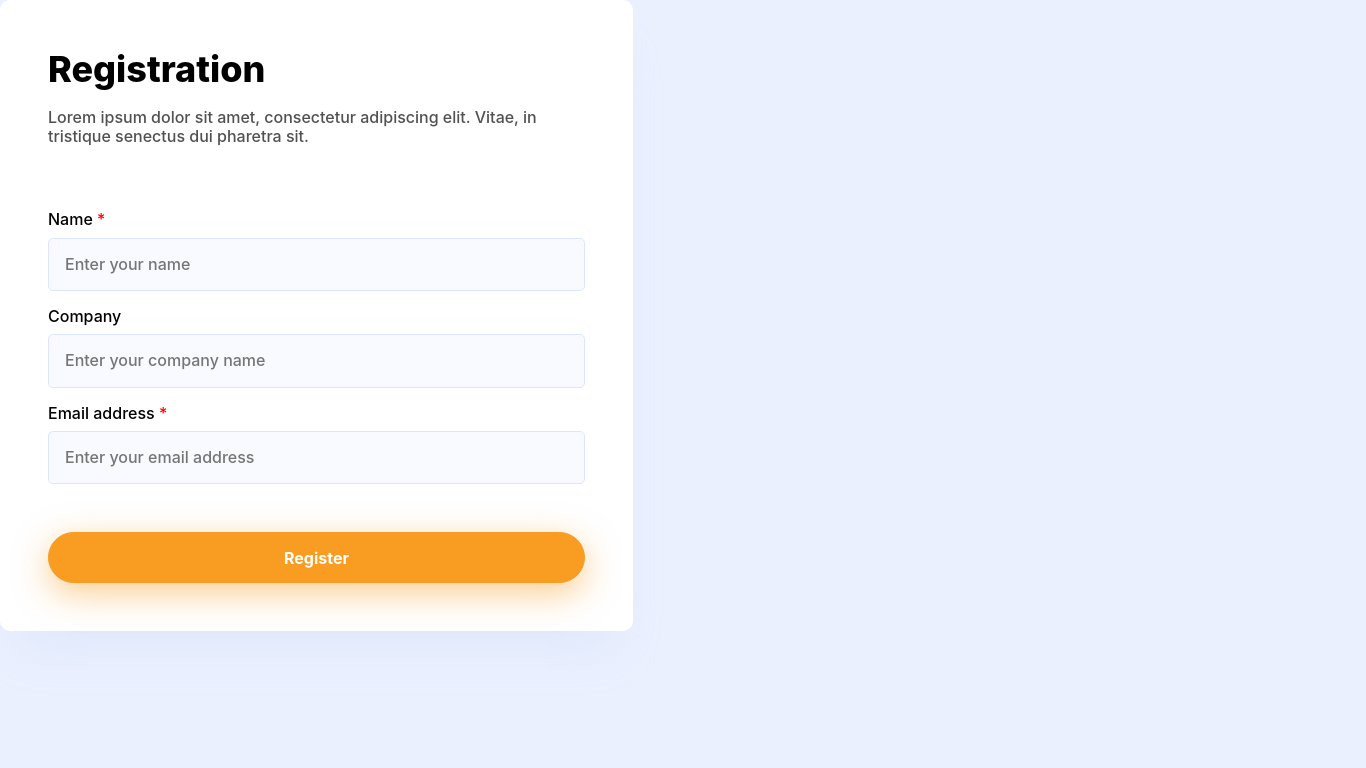
it: RegistrationForm › submits the form and shows alert
Type "John Doe" into the field labelled "Name *".
click(316, 264); type("John Doe")  # box x1=48 y1=238 x2=585 y2=291
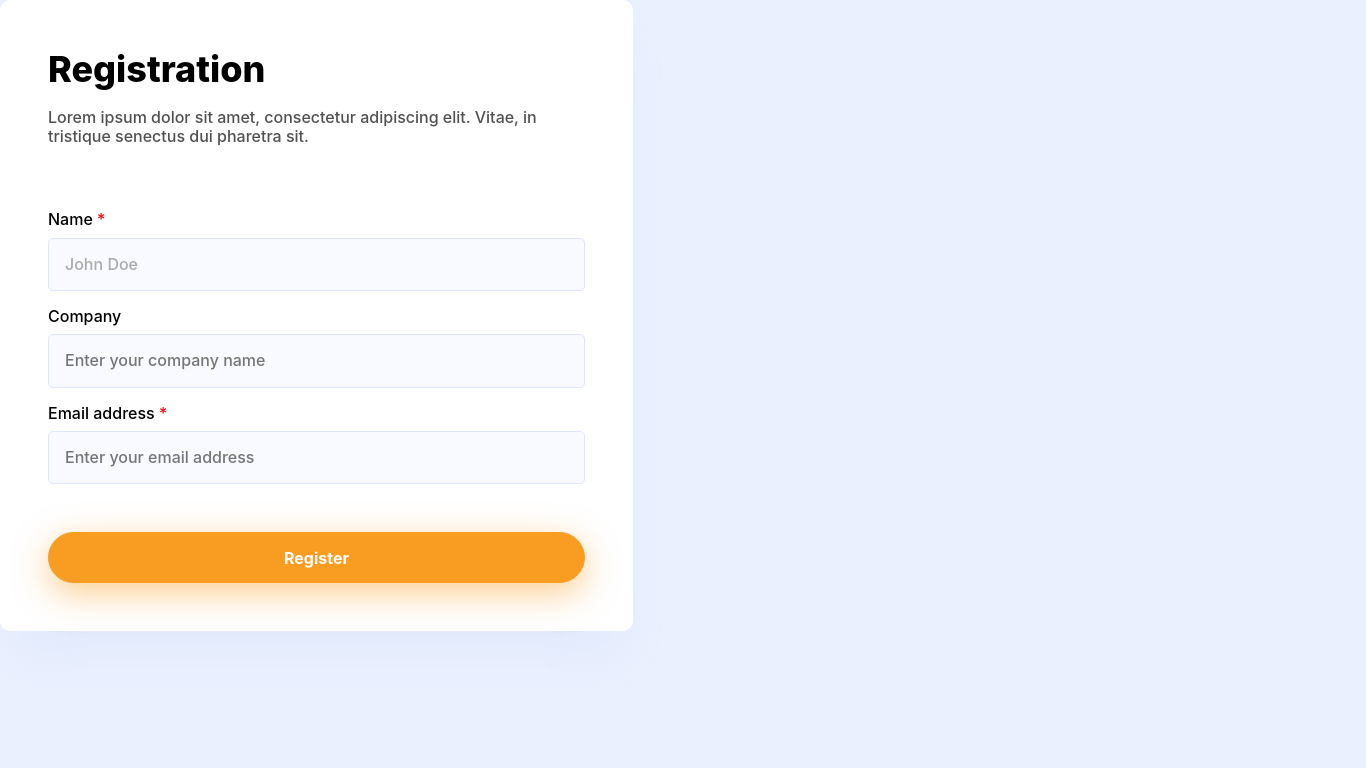
Type "ACME Corp" into the field labelled "Company".
click(316, 361); type("ACME Corp")  # box x1=48 y1=334 x2=585 y2=388
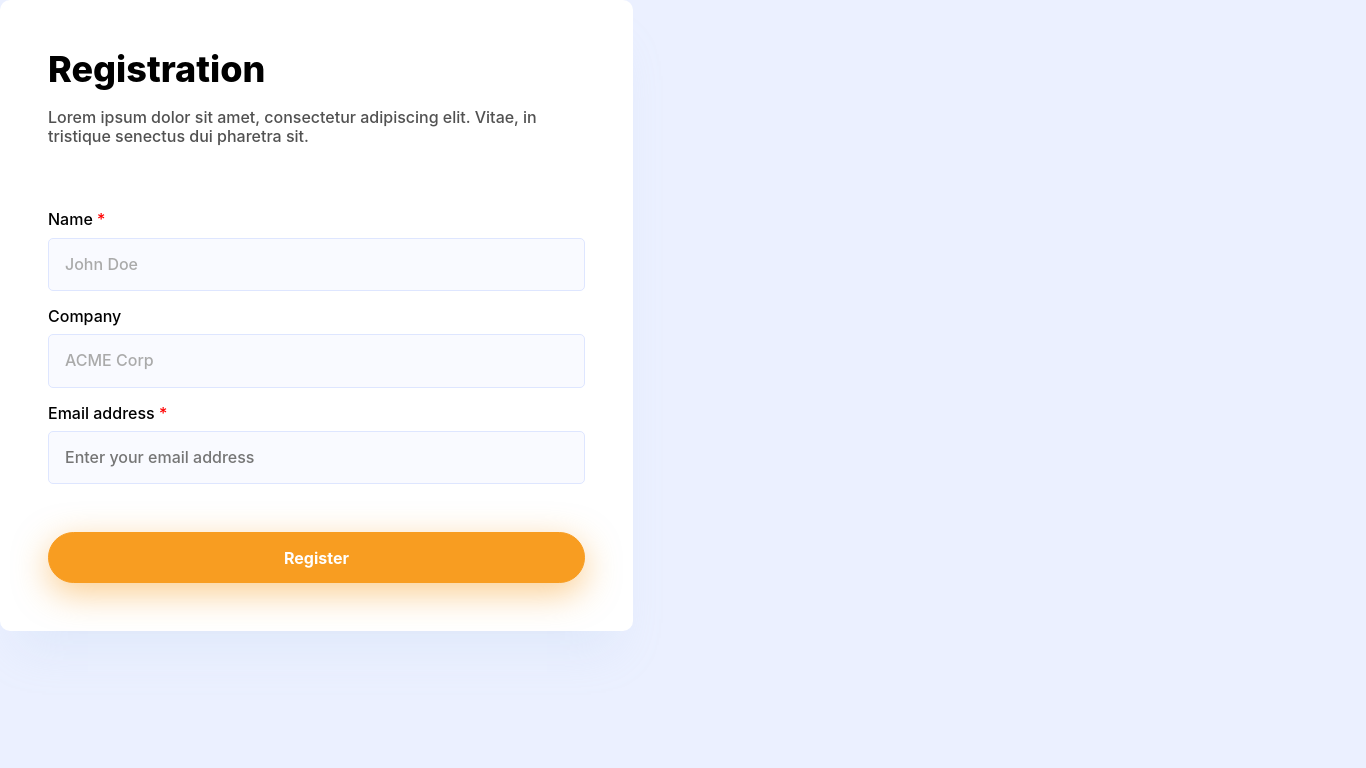
Type "john@example.com" into the field labelled "Email address *".
click(316, 458); type("john@example.com")  # box x1=48 y1=431 x2=585 y2=484
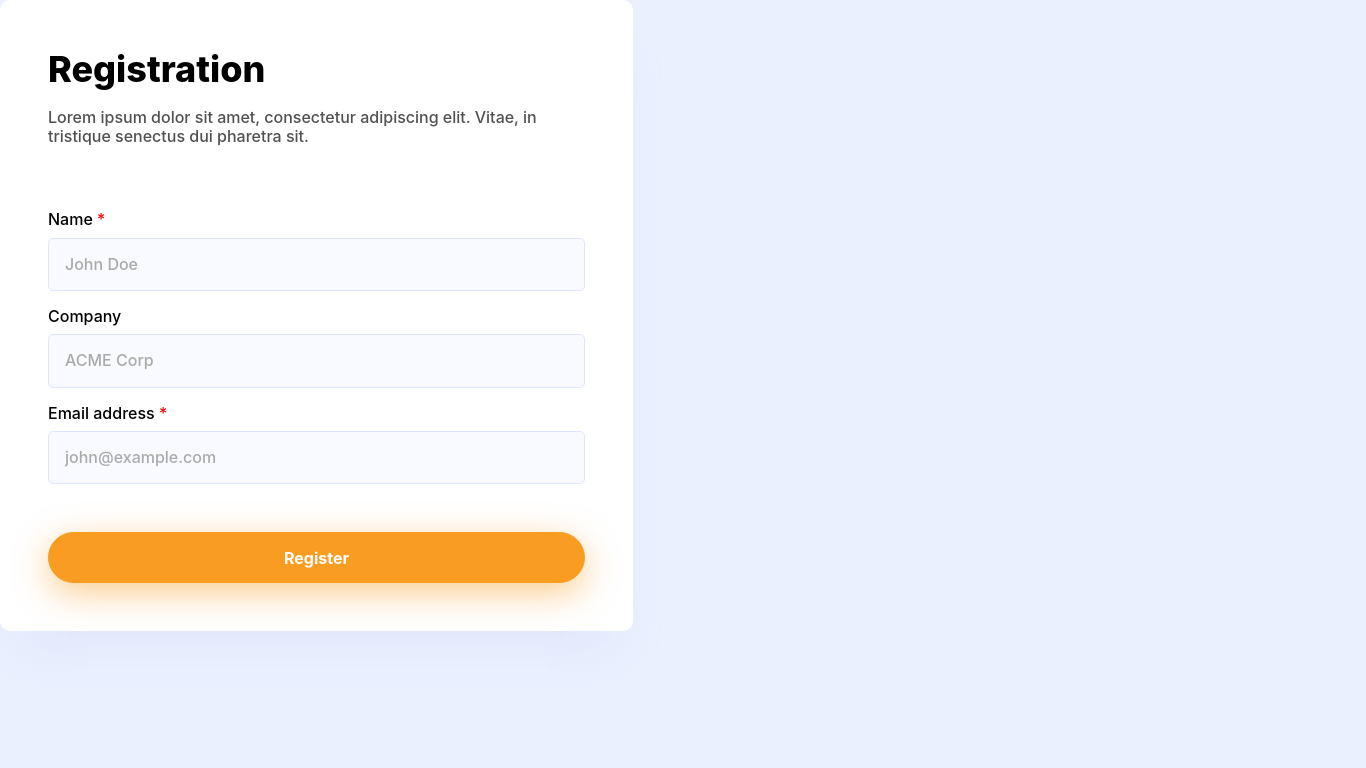
Click the button "Register".
click(316, 558)  # box x1=48 y1=532 x2=585 y2=583
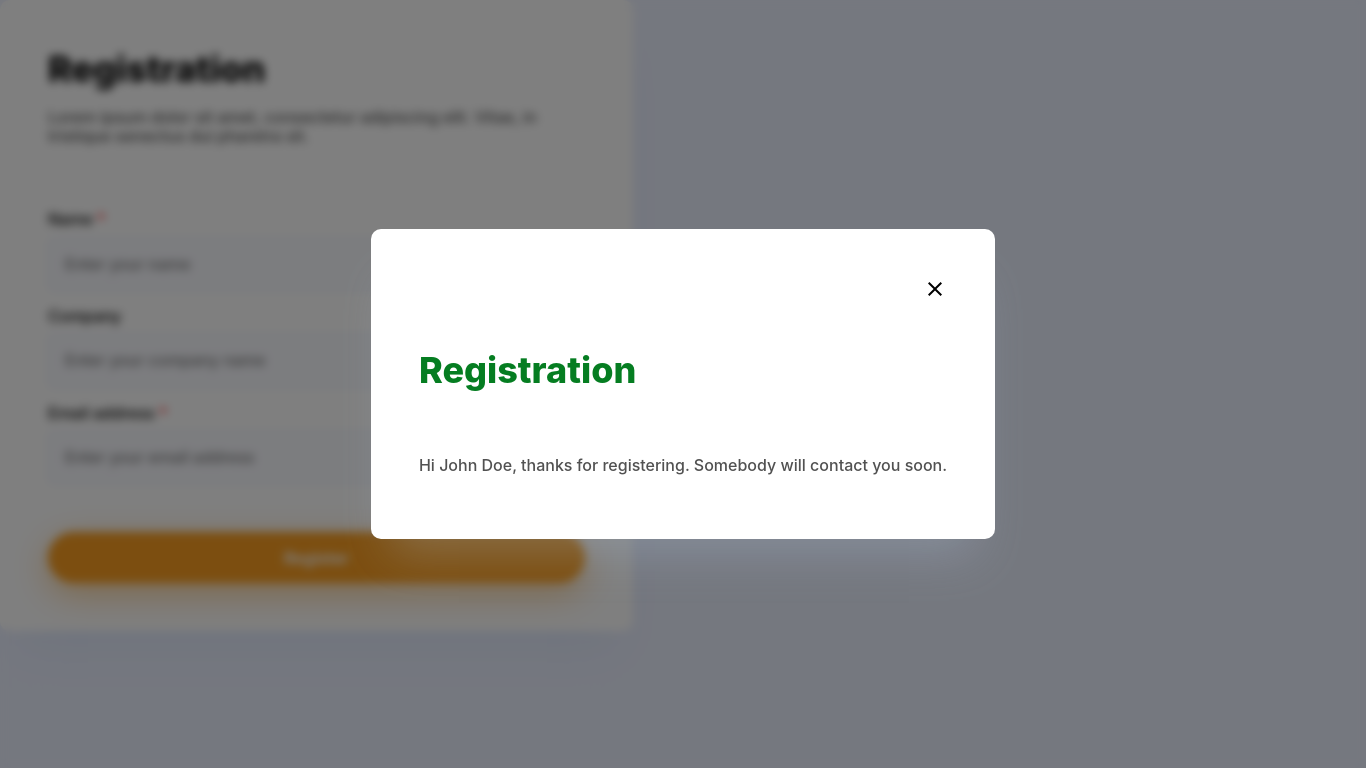
Check: the text "Hi John Doe, thanks for registering. Somebody will contact you soon." is shown, box x1=419 y1=456 x2=947 y2=476
